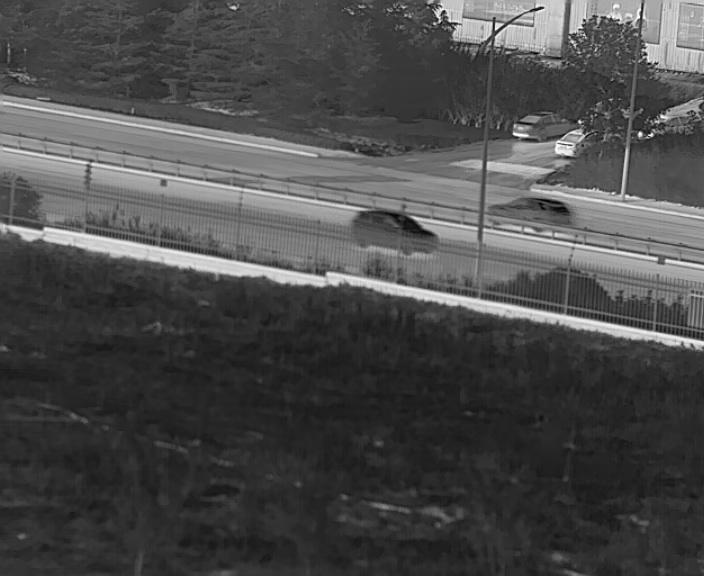vehicle: (347, 209, 443, 253), (489, 194, 569, 232), (512, 110, 563, 144), (555, 128, 594, 158)
